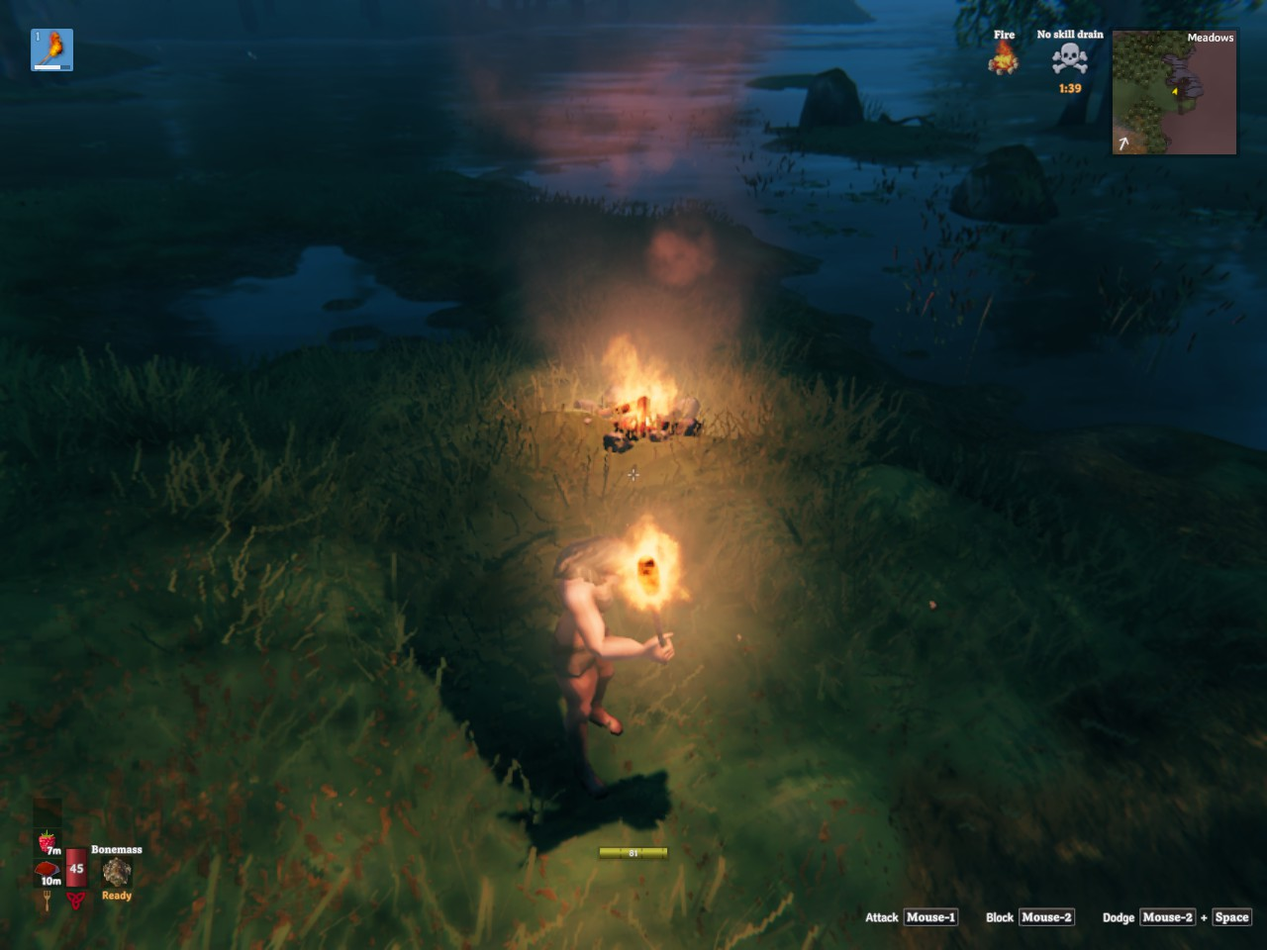Fire: (563, 348, 710, 465)
Fire Status: (976, 26, 1031, 87)
Torch: (637, 556, 661, 599), (650, 607, 665, 646)
